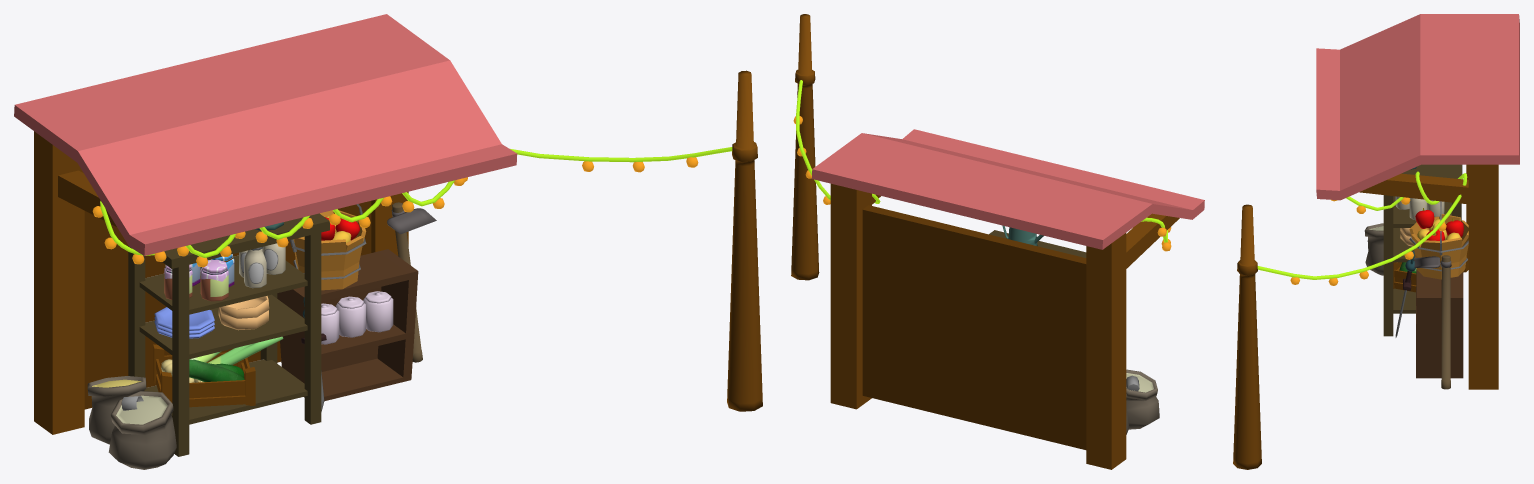
The model's file is KitchenSet1.glb.
The picture shows the model from 3 angles, left to right: view 1: azimuth 30°, elevation 25°; view 2: azimuth 150°, elevation 25°; view 3: azimuth 270°, elevation 25°; orthographic projection. The views are drawn at different scales.
Visible parts, largest first — view 1: Cylinder.003, Shelf1, Little Shelf, Flour, Box, Cylinder.017, Flour2, Cylinder.026, Cylinder.025, Cylinder.021, Cylinder.034, Milk (+2 smaller); view 2: Cylinder.003, Flour, WaterCan; view 3: Cylinder.003, Little Shelf, Shelf1, Cylinder.017, Cylinder.026, Flour, Box, Cube.007.
Part boxes in pixels (left/top/right/bottom): Cylinder.003: left=14, top=14, right=762, bottom=434; Shelf1: left=128, top=213, right=329, bottom=456; Little Shelf: left=277, top=249, right=418, bottom=401; Flour: left=108, top=391, right=176, bottom=469; Box: left=153, top=344, right=255, bottom=407; Cylinder.017: left=289, top=204, right=366, bottom=290; Flour2: left=87, top=376, right=146, bottom=444; Cylinder.026: left=387, top=202, right=436, bottom=362; Cylinder.025: left=200, top=259, right=228, bottom=301; Cylinder.021: left=363, top=291, right=393, bottom=332; Cylinder.034: left=335, top=296, right=365, bottom=337; Milk: left=244, top=247, right=266, bottom=288; Cylinder.003: left=791, top=14, right=1204, bottom=469; Flour: left=1126, top=369, right=1159, bottom=429; WaterCan: left=1002, top=225, right=1043, bottom=246; Cylinder.003: left=1233, top=14, right=1519, bottom=469; Little Shelf: left=1416, top=269, right=1463, bottom=378; Shelf1: left=1383, top=164, right=1462, bottom=336; Cylinder.017: left=1409, top=201, right=1468, bottom=279; Cylinder.026: left=1414, top=255, right=1451, bottom=389; Flour: left=1364, top=223, right=1383, bottom=275; Box: left=1393, top=246, right=1468, bottom=292; Cube.007: left=1395, top=251, right=1415, bottom=337.
Size of the model in its own units: 35.6 by 19.68 by 19.83.
8 materials, 8 textured.
